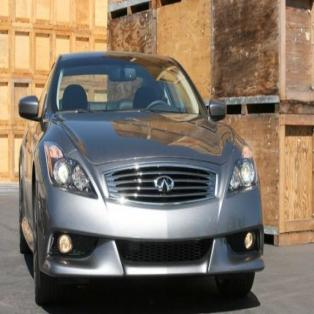Auto: (18, 51, 266, 307)
